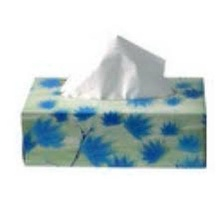book: (15, 70, 212, 173)
tissue: (55, 29, 171, 105)
